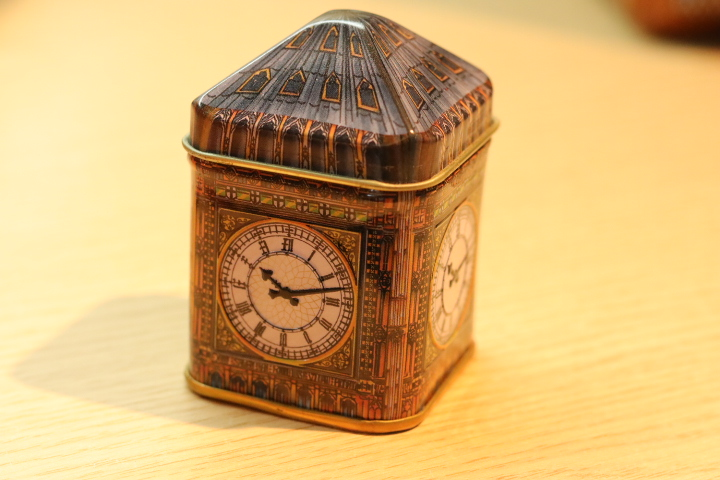Big Ben: (171, 7, 514, 440)
